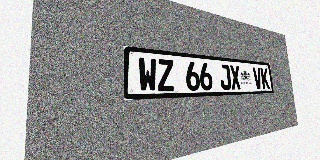6: (185, 61, 200, 91), (199, 62, 213, 90)
J: (219, 64, 231, 90)
K: (260, 68, 270, 89)
V: (252, 67, 263, 89)
W: (138, 57, 158, 92)
X: (229, 65, 241, 90)
Z: (157, 59, 175, 91)
